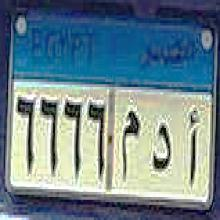6: (85, 96, 110, 180), (15, 90, 37, 176), (39, 96, 62, 178), (65, 99, 83, 175)
alif: (183, 105, 200, 186)
daal: (150, 122, 173, 169)
meem: (118, 108, 142, 183)
